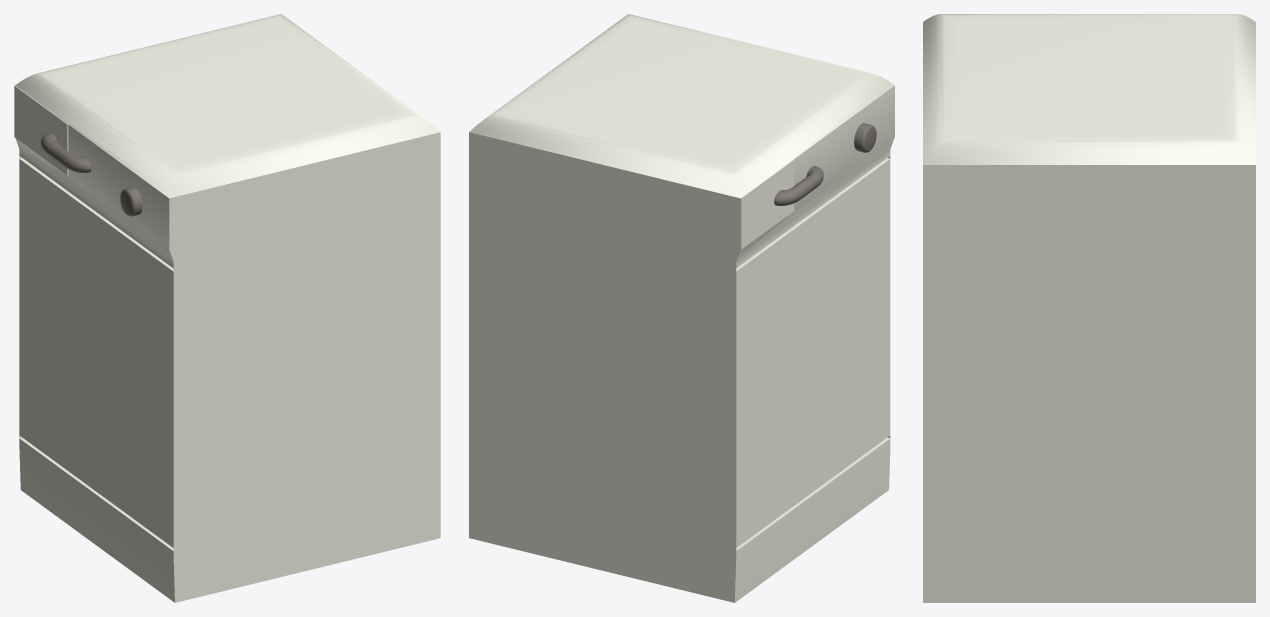
Rendered from TumbleDryer.FBX.
The picture shows the model from 3 angles, left to right: view 1: azimuth 30°, elevation 25°; view 2: azimuth 150°, elevation 25°; view 3: azimuth 270°, elevation 25°; orthographic projection. The views are drawn at different scales.
Visible parts, largest first — view 1: Box001, Cylinder003; view 2: Box001, Cylinder003; view 3: Box001.
Boxes of the visible parts, x1,y1,x2,y2 form: Box001: (14, 14, 440, 602); Cylinder003: (41, 133, 91, 172); Box001: (469, 14, 894, 602); Cylinder003: (774, 165, 823, 205); Box001: (923, 14, 1255, 602).
Bounding box in the file's own units: 52.49 × 73.72 × 48.94.
Materials: 2 (2 with a texture image).
